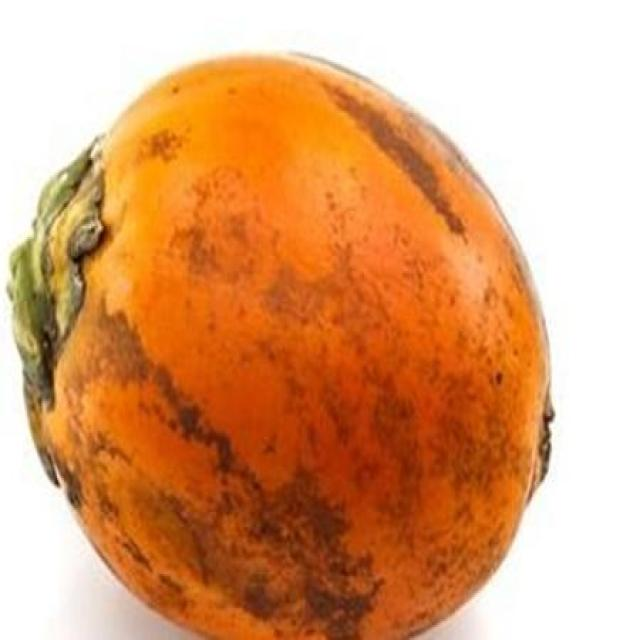good: (9, 53, 550, 638)
